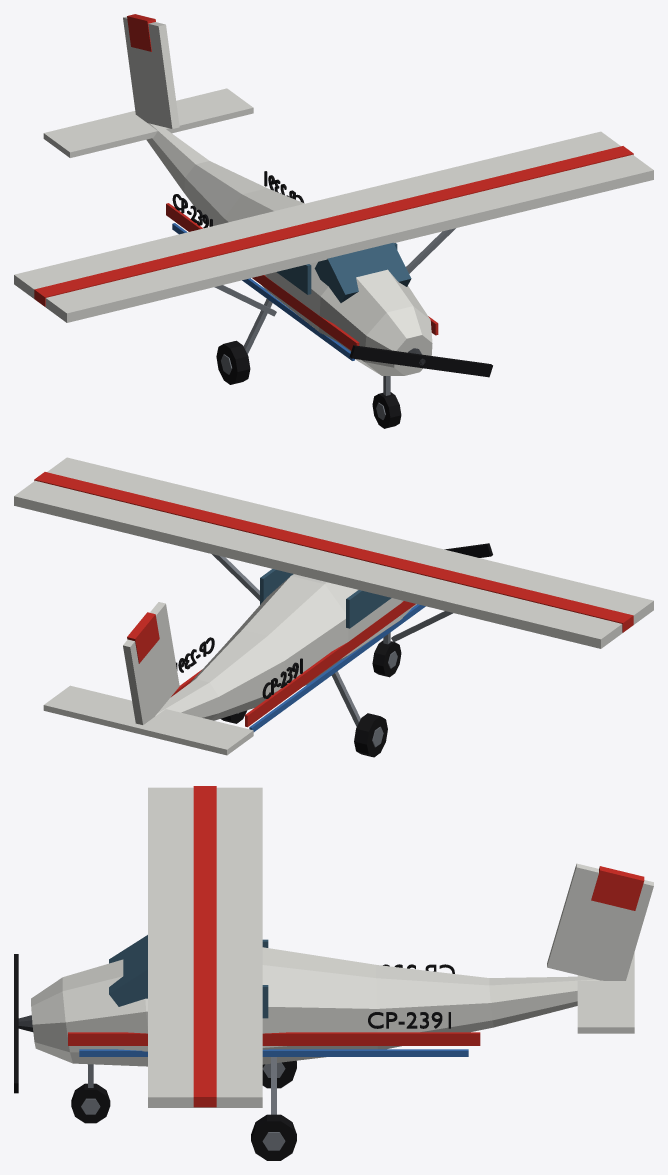
Rendered from Avioneta Cessna.fbx.
3 views of the same model, one above another, from view 1: azimuth 30°, elevation 25°; view 2: azimuth 150°, elevation 25°; view 3: azimuth 270°, elevation 25° (orthographic). The views are drawn at different scales.
Parts seen in each view (by area): view 1: Fuselaje.001, Helice; view 2: Fuselaje.001; view 3: Fuselaje.001, Helice.
Boxes of the visible parts, x1,y1,x2,y2 form: Fuselaje.001: (14,14,653,428); Helice: (349,345,492,377); Fuselaje.001: (14,457,653,757); Fuselaje.001: (31,786,653,1160); Helice: (14,954,33,1093).
Bounding box in the file's own units: 6.42 × 2.46 × 5.59.
